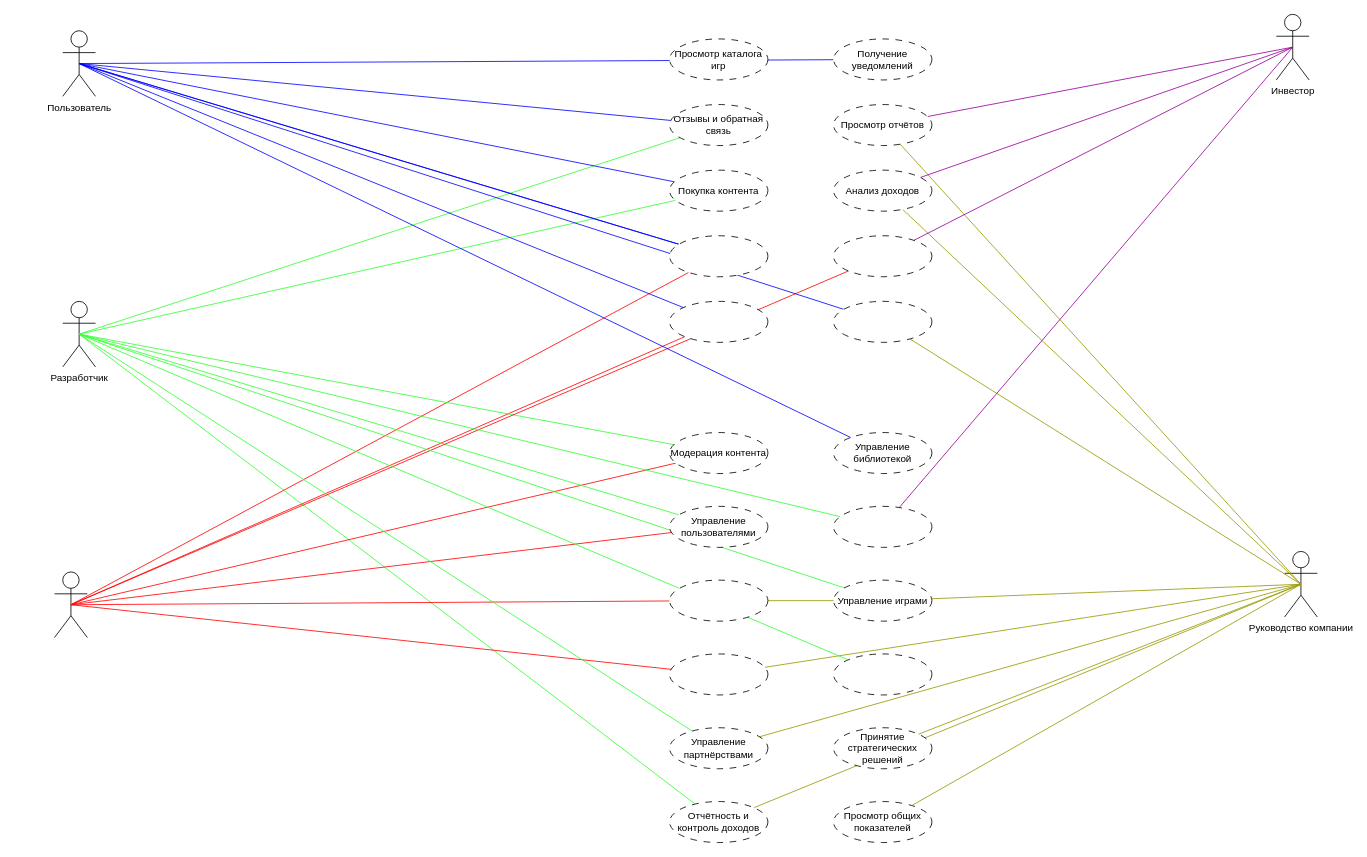
Some shapes in this 1367 by 857 pixel diagram are drawn without their labels. Here are the shapes that lost their labels. From the top down, the centre of each, then its label:
pixel 718 256: Регистрация и авторизация
pixel 882 256: Отчёты по работе системы
pixel 718 321: Модерация пользователей
pixel 882 321: Анализ пользовательской активности
pixel 882 526: Финансовая отчётность
pixel 70 604: Администратор системы
pixel 718 600: Управление платформой
pixel 718 674: Отчёты по производительности
pixel 882 674: Интеграция через API
